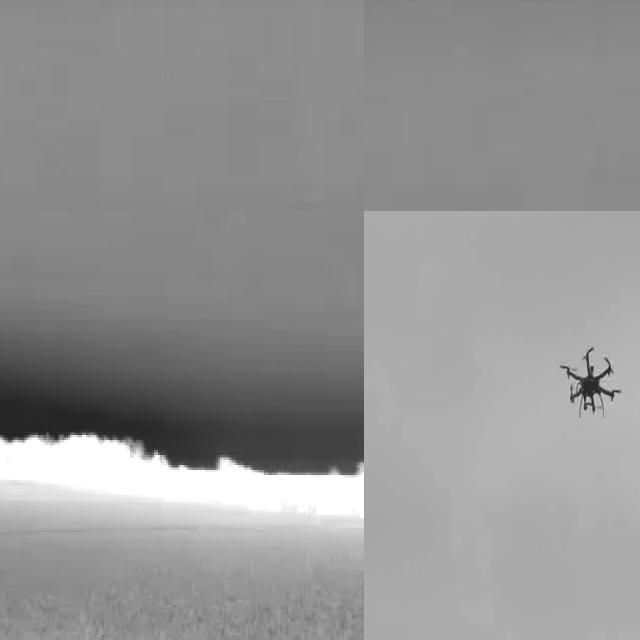drone: (559, 338, 625, 426)
